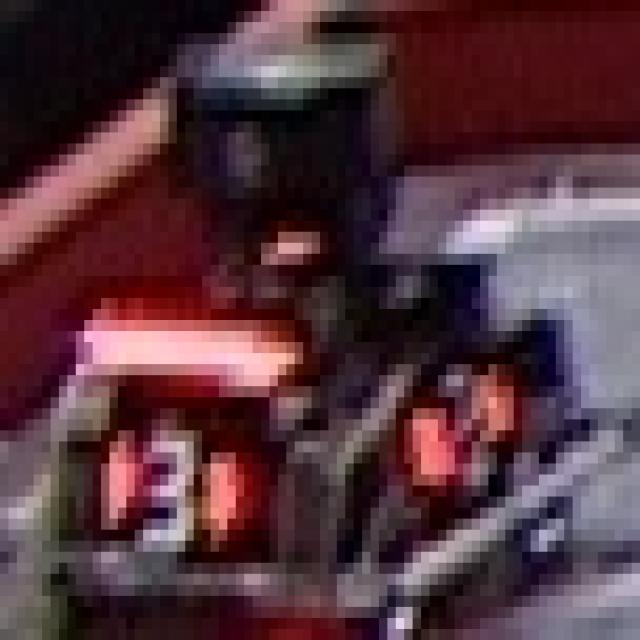R3: (84, 419, 236, 563), (404, 353, 514, 486)
